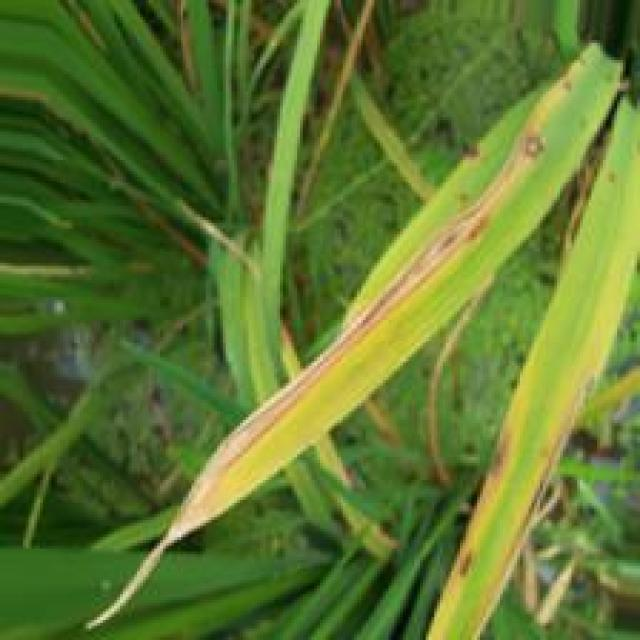Narrow_Brown_Leaf_Spot: (170, 50, 603, 542), (483, 342, 609, 630), (438, 365, 536, 635)
